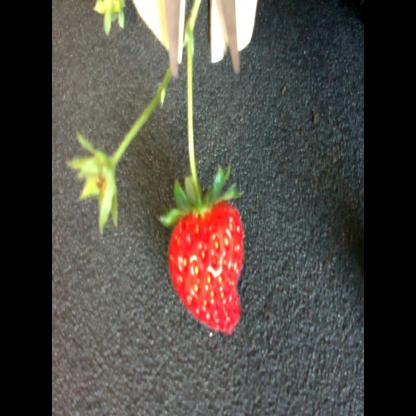ripe: (162, 180, 248, 338)
